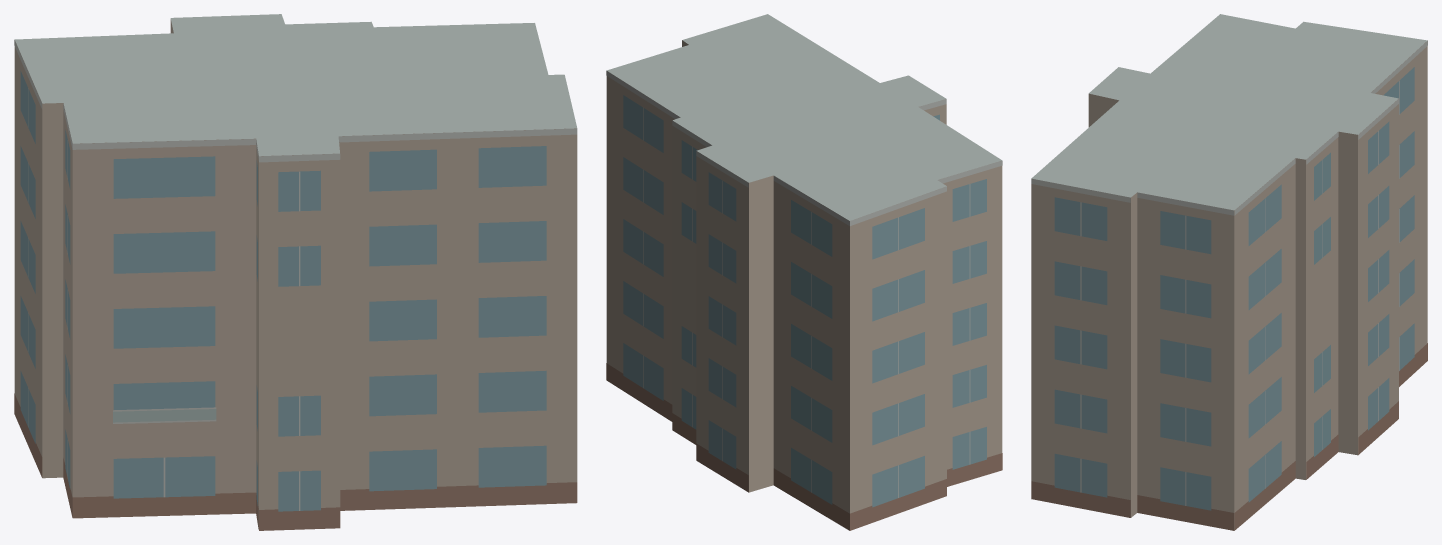
The model's file is survey-upis-32793485.glb.
3 renders of one model, left to right at view 1: azimuth 30°, elevation 25°; view 2: azimuth 150°, elevation 25°; view 3: azimuth 270°, elevation 25°, orthographic. The views are drawn at different scales.
Visible parts, largest first — view 1: survey-upis-32793485.tmp; view 2: survey-upis-32793485.tmp; view 3: survey-upis-32793485.tmp.
Part boxes in pixels (x1,y1,x2,y2): survey-upis-32793485.tmp: (14,14,577,530); survey-upis-32793485.tmp: (606,14,1002,530); survey-upis-32793485.tmp: (1031,14,1427,530).
Size of the model in its own units: 19.2 by 14.6 by 16.38.
